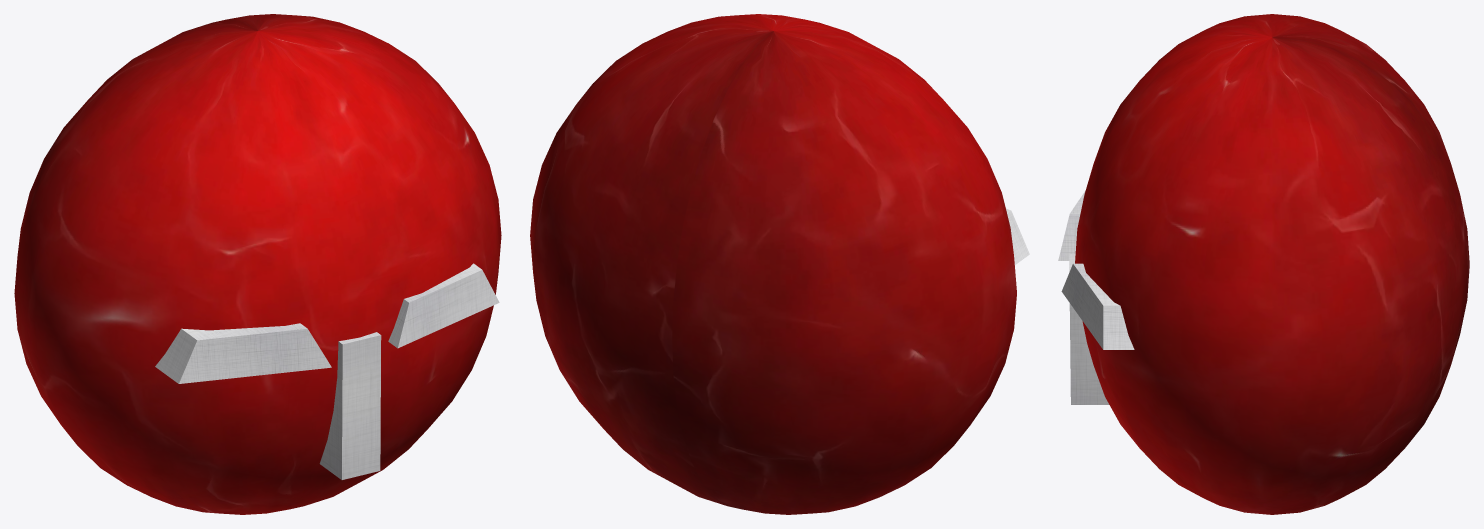
The model's file is enemy1.obj.
The picture shows the model from 3 angles, left to right: view 1: azimuth 30°, elevation 25°; view 2: azimuth 150°, elevation 25°; view 3: azimuth 270°, elevation 25°; orthographic projection. The views are drawn at different scales.
Visible parts, largest first — view 1: pSphere1, pCube3; view 2: pSphere1, pCube3; view 3: pSphere1, pCube3.
Boxes of the visible parts, x1,y1,x2,y2 form: pSphere1: (14,14,501,514); pCube3: (155,263,499,479); pSphere1: (530,14,1016,514); pCube3: (1006,208,1029,264); pSphere1: (1075,14,1469,514); pCube3: (1058,190,1134,404).
Bounding box in the file's own units: 5.02 × 5.02 × 4.12.
Materials: 2 (2 with a texture image).
